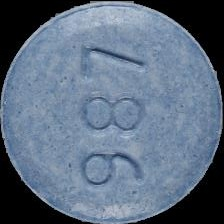0555-9016: (0, 0, 224, 224)
